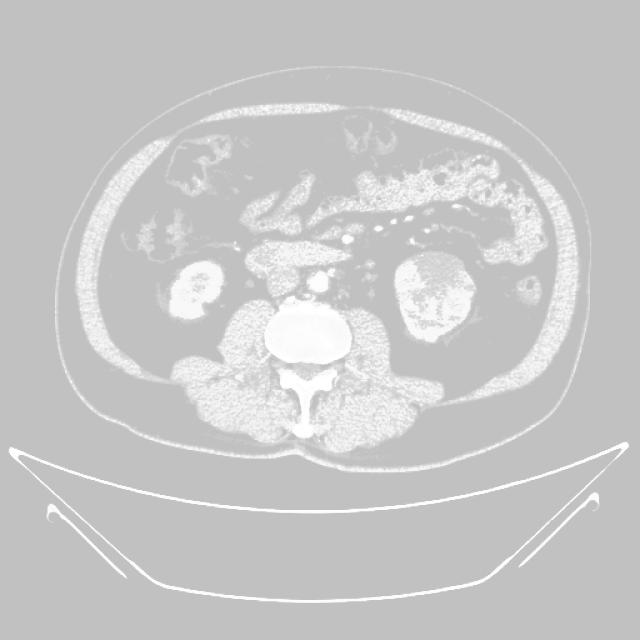TUMOR: (147, 109, 549, 366)
